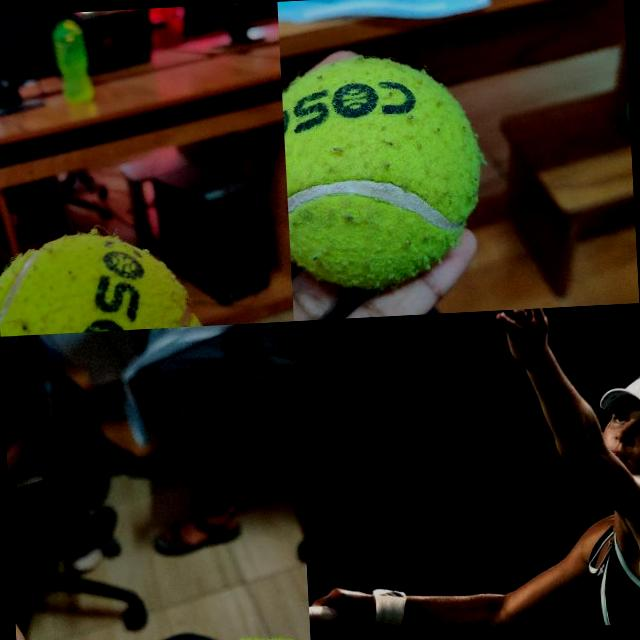tennis-ball: (280, 52, 487, 292), (0, 226, 203, 335)
